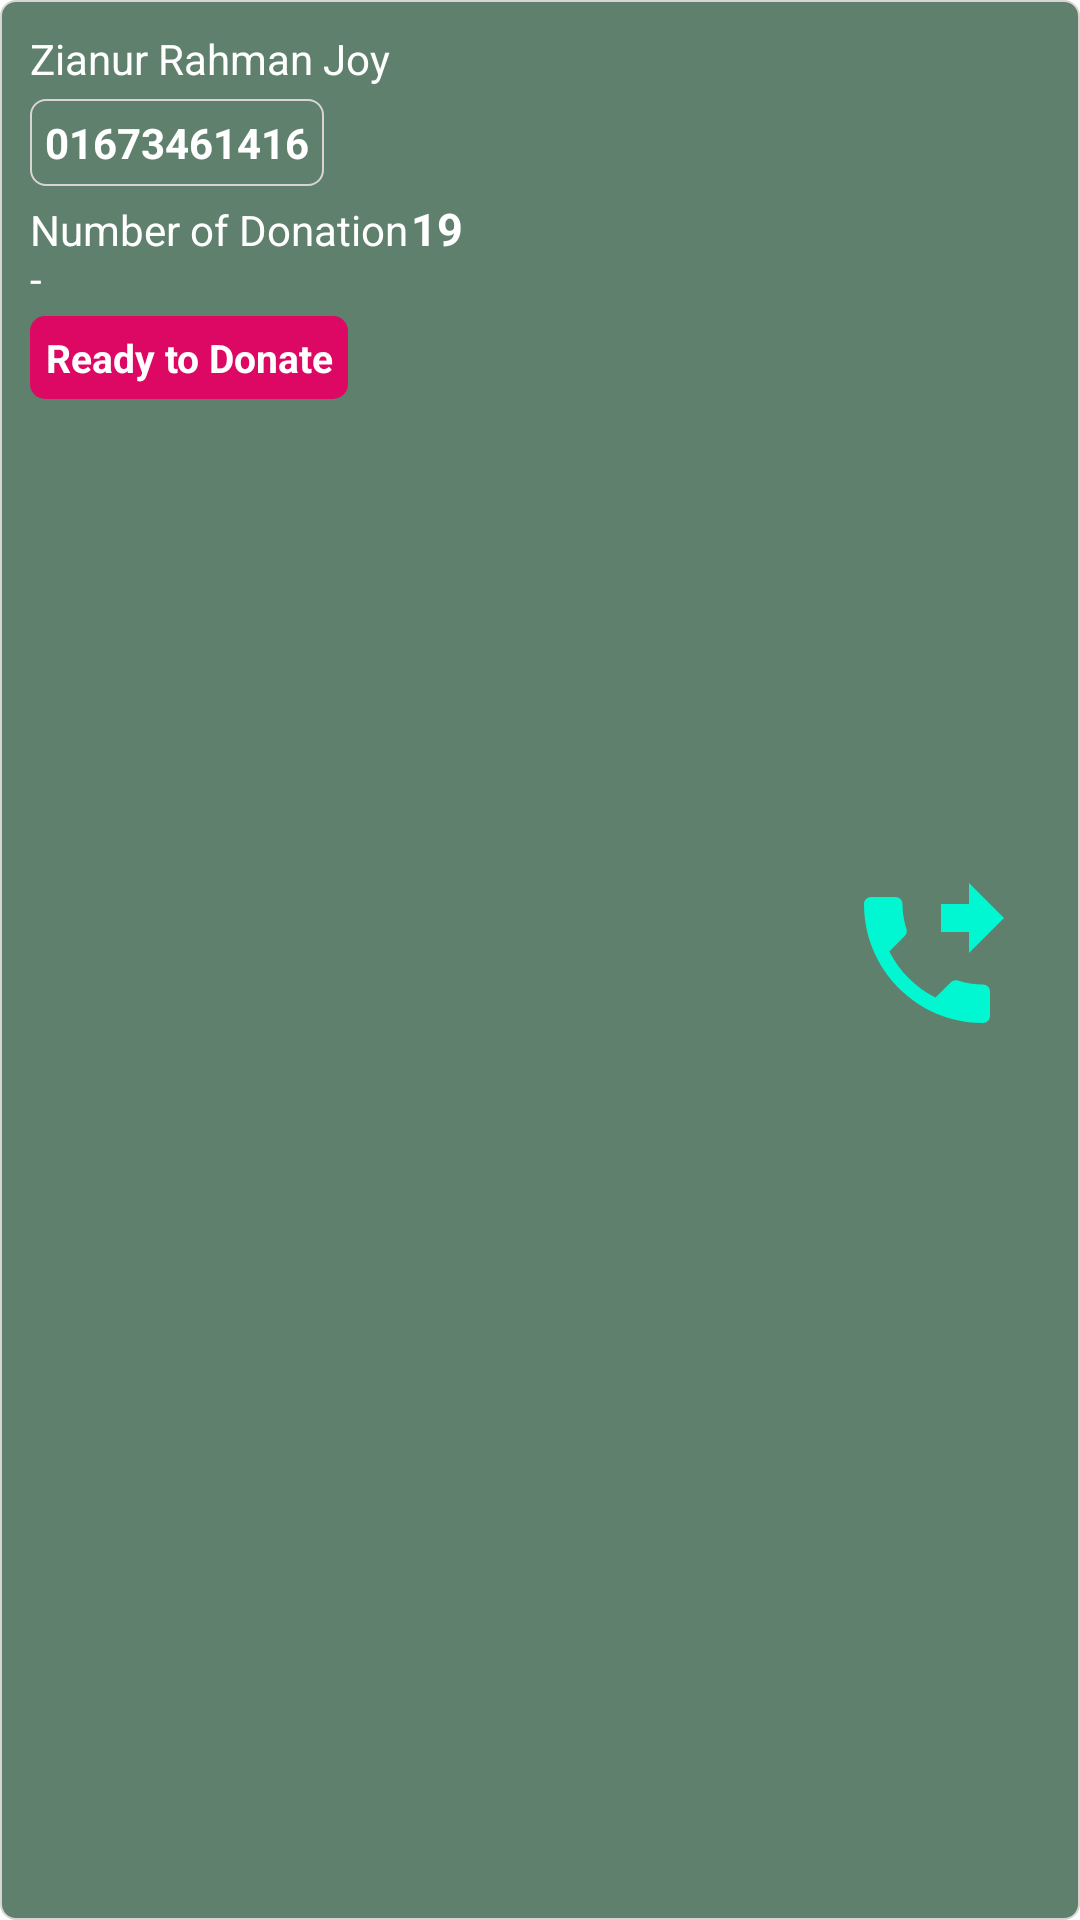

Point at icon controls on the screen. Image size 1080 × 1920, points as (x=x, y=y).
phone: (x=934, y=953)
